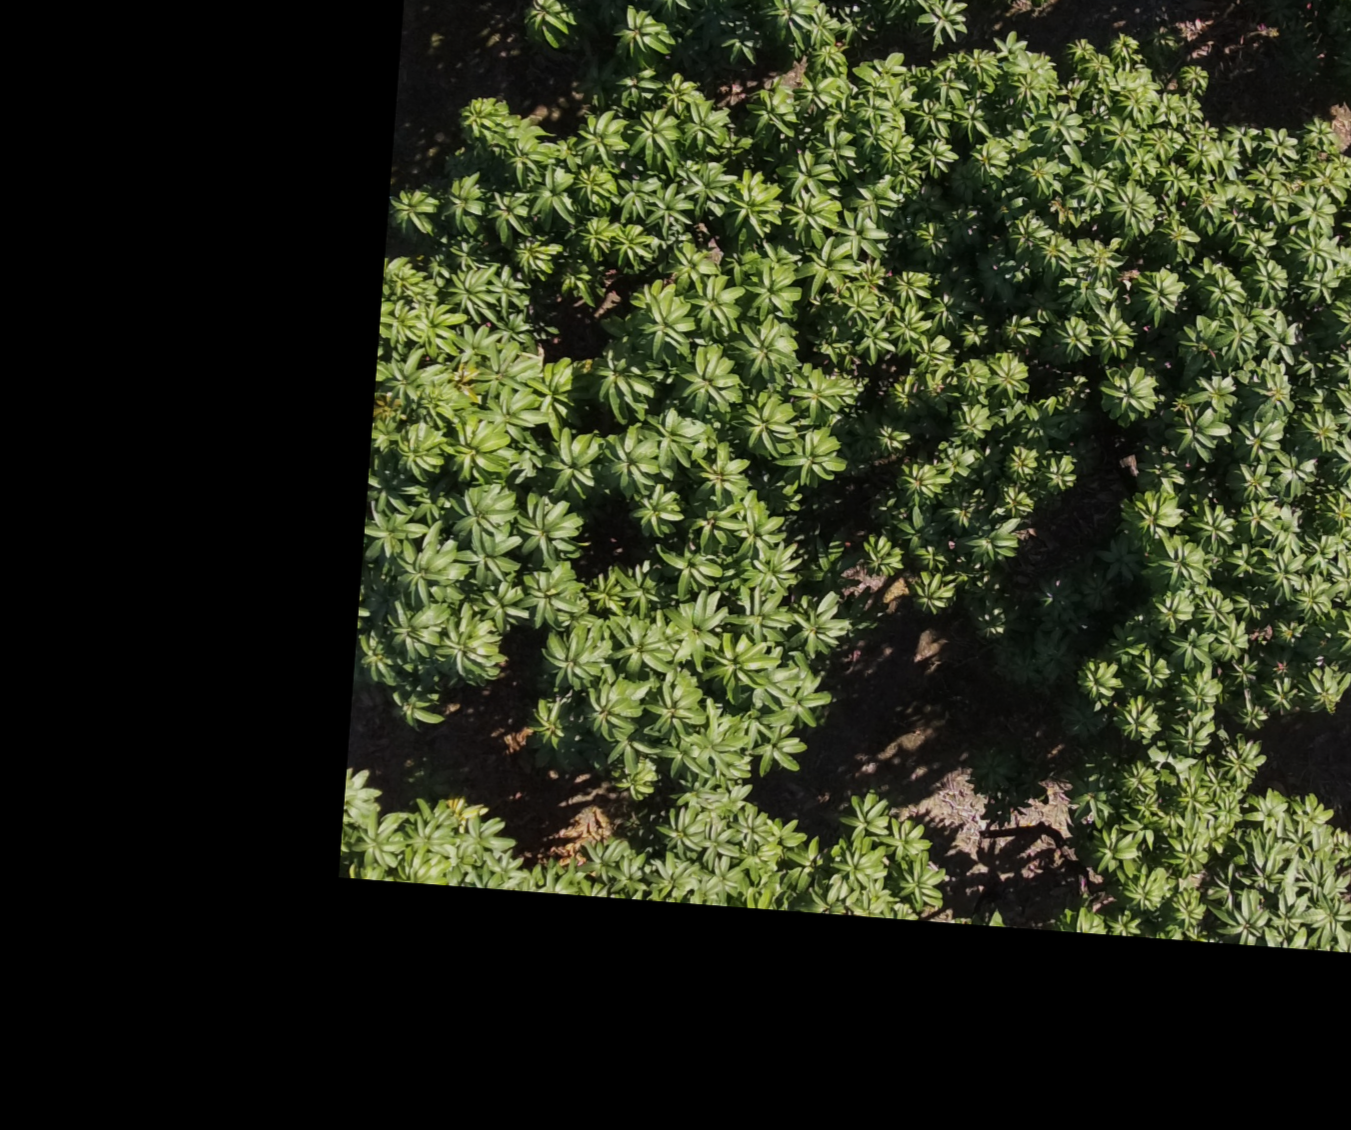flowers: (552, 806, 614, 869)
